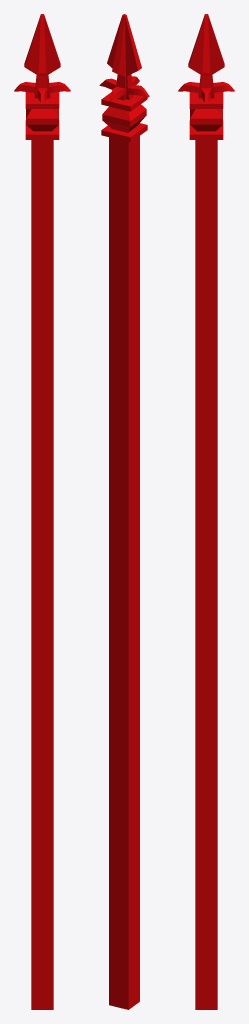
File: SM_fence_side.fbx
3 views of the same model, side by side, from view 1: azimuth 90°, elevation 25°; view 2: azimuth 150°, elevation 25°; view 3: azimuth 270°, elevation 25° (orthographic).
Visible parts, largest first — view 1: fence_side; view 2: fence_side; view 3: fence_side.
Boxes of the visible parts, x1,y1,x2,y2 form: fence_side: (14,14,70,1009); fence_side: (99,14,149,1009); fence_side: (178,14,234,1009).
Size of the model in its own units: 10 by 193 by 10.
